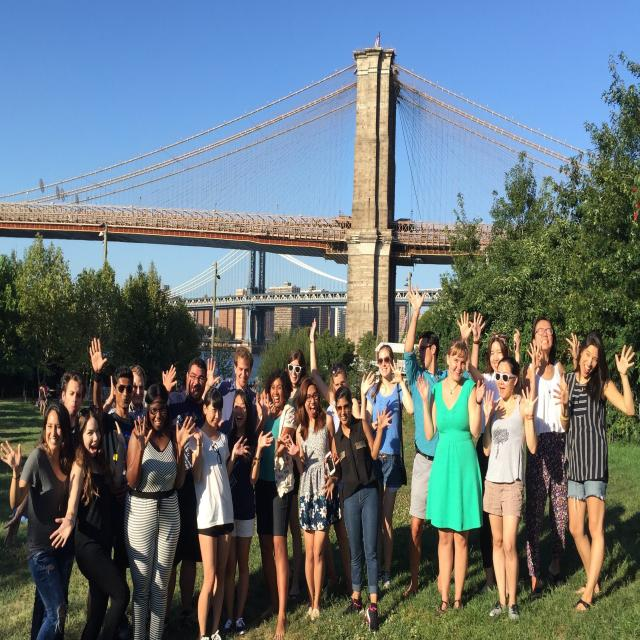body: (551, 331, 637, 616), (1, 369, 91, 640), (400, 283, 475, 601), (455, 307, 524, 601), (415, 336, 486, 618), (519, 314, 586, 604), (122, 378, 196, 640), (309, 317, 376, 597), (320, 383, 394, 636), (0, 399, 78, 639), (86, 335, 144, 626), (188, 383, 252, 640), (480, 355, 539, 624), (282, 374, 343, 626), (357, 343, 416, 595), (160, 358, 208, 632), (222, 388, 274, 636), (253, 369, 298, 640), (284, 348, 308, 604), (201, 345, 259, 432), (59, 370, 116, 434), (102, 364, 149, 425), (213, 374, 261, 397), (38, 382, 48, 418)
